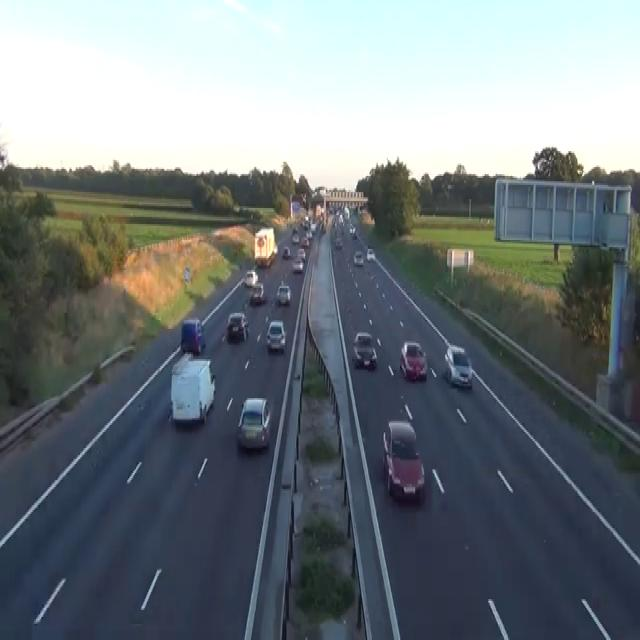Car: (382, 419, 425, 502), (236, 396, 270, 450), (444, 345, 472, 387), (399, 340, 427, 380), (352, 330, 377, 370), (180, 316, 205, 354), (226, 311, 249, 341), (266, 318, 286, 352), (250, 281, 264, 304), (276, 283, 291, 304), (243, 268, 258, 286), (292, 256, 303, 272), (353, 249, 363, 265), (366, 247, 375, 261), (297, 247, 305, 261), (282, 245, 290, 258), (349, 224, 356, 238), (335, 236, 342, 249), (300, 237, 309, 247), (303, 215, 309, 228), (292, 233, 299, 243), (310, 222, 316, 233), (273, 242, 278, 254), (291, 226, 298, 234), (305, 230, 312, 238), (338, 213, 343, 224), (320, 224, 326, 233), (352, 230, 357, 238)
Truck: (170, 352, 215, 425), (254, 226, 276, 266)
